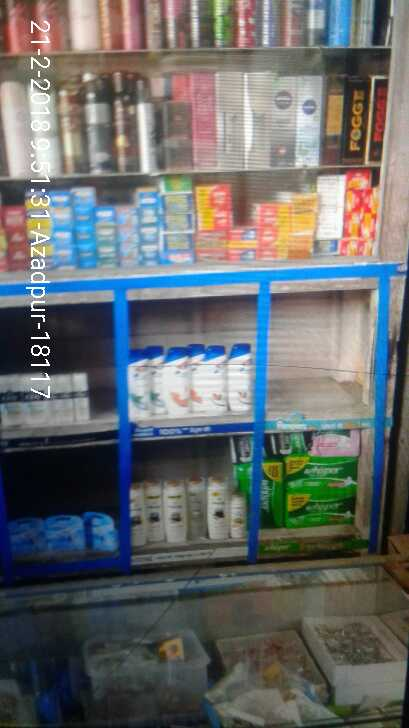venus: (10, 518, 46, 555), (46, 518, 84, 552), (84, 513, 117, 552)
